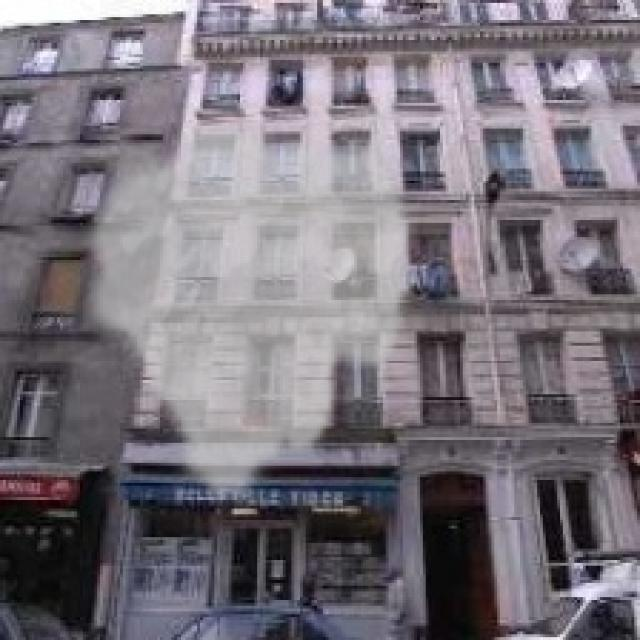Smoke: (77, 117, 420, 509)
